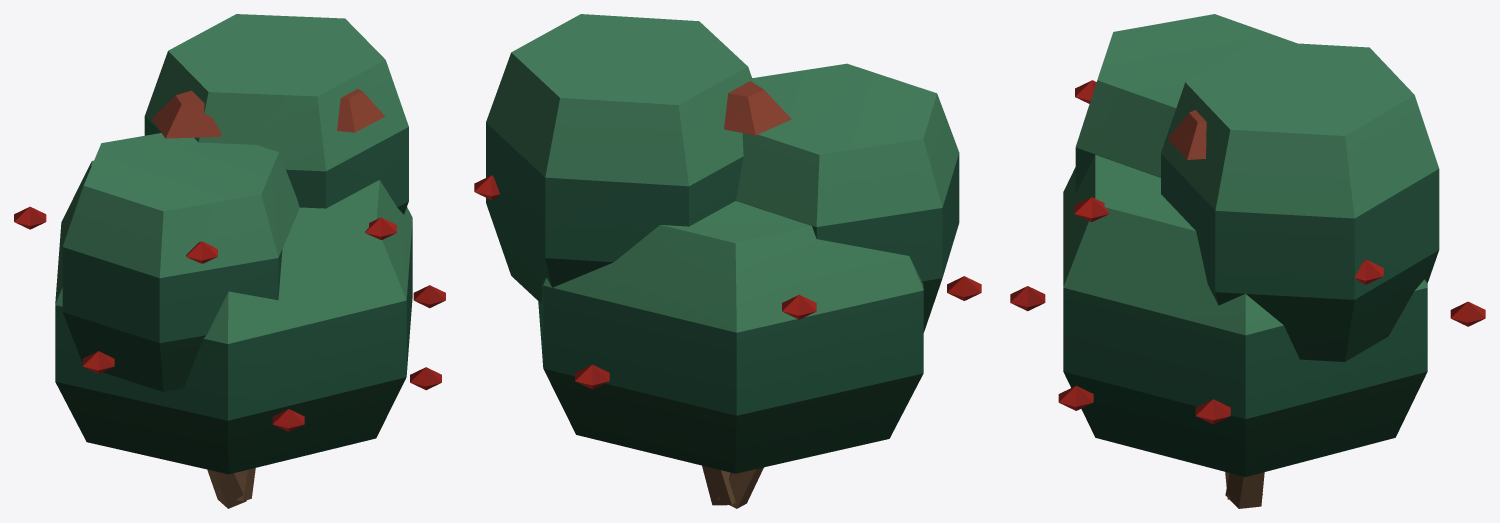
File: custom-pitangueira.glb
3 views of the same model, side by side, from view 1: azimuth 30°, elevation 25°; view 2: azimuth 150°, elevation 25°; view 3: azimuth 270°, elevation 25° (orthographic). The views are drawn at different scales.
Visible parts, largest first — view 1: pitangueira; view 2: pitangueira; view 3: pitangueira.
Part boxes in pixels (box(x1,y1,x2,y2)): pitangueira: box(14, 14, 445, 508); pitangueira: box(474, 14, 981, 508); pitangueira: box(1010, 14, 1485, 508).
Bounding box in the file's own units: 3.15 × 3.2 × 3.05.
